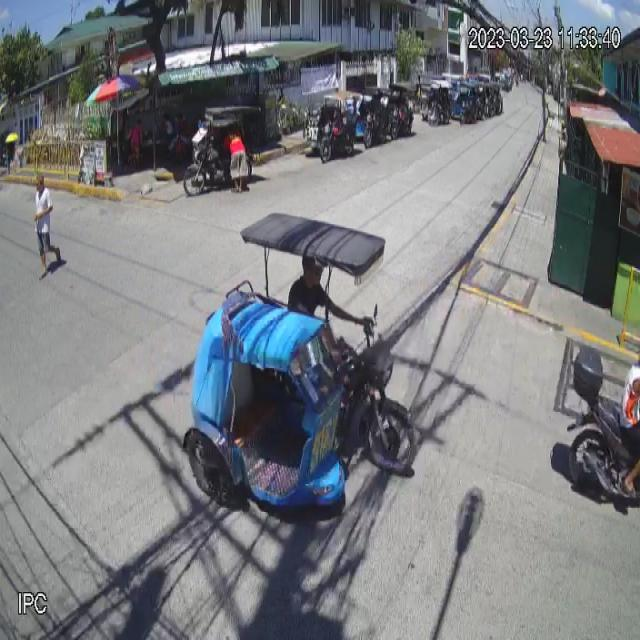Tricycle: (182, 212, 418, 513)
